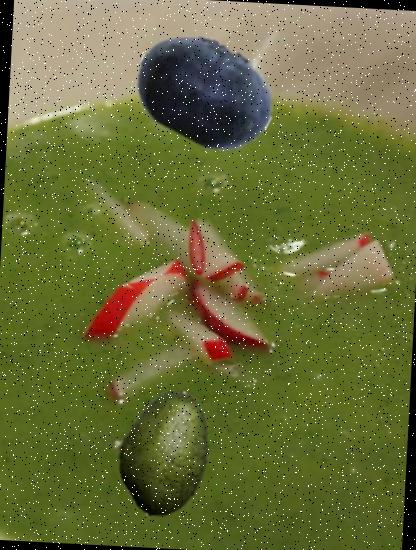Avocado: (92, 384, 229, 520)
Blueberry: (130, 16, 281, 167)
